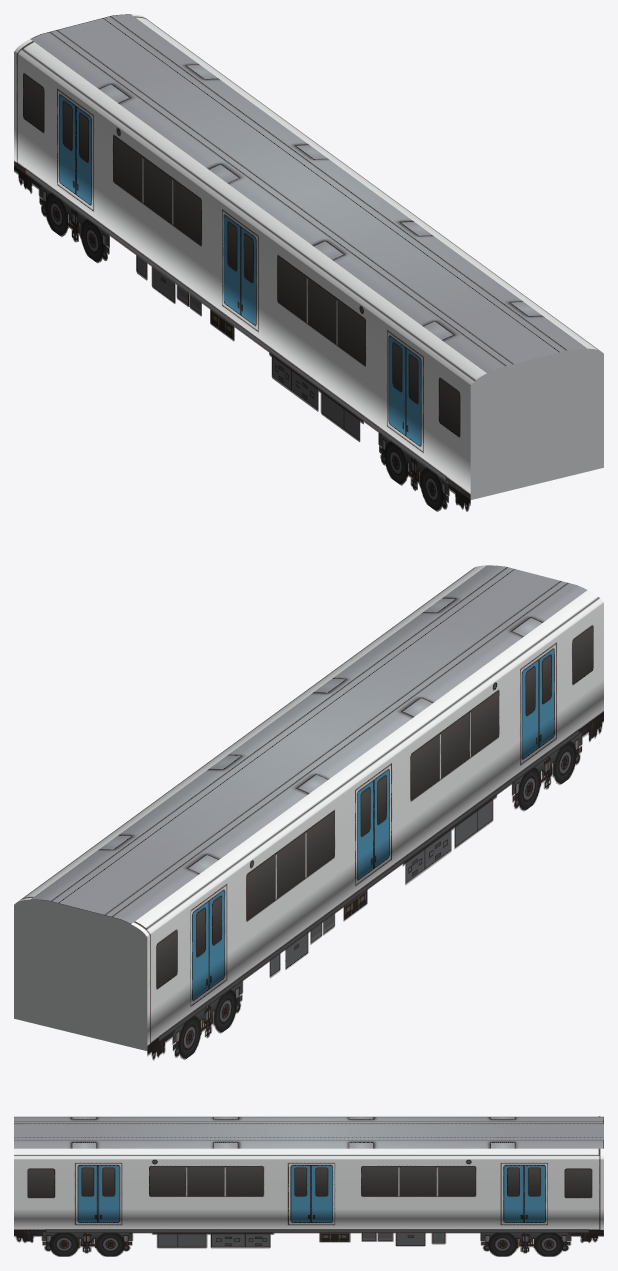
The model's file is car6.glb.
The picture shows the model from 3 angles, top to bottom: view 1: azimuth 30°, elevation 25°; view 2: azimuth 150°, elevation 25°; view 3: azimuth 270°, elevation 25°; orthographic projection. The views are drawn at different scales.
Parts seen in each view (by area): view 1: car6; view 2: car6; view 3: car6.
Boxes of the visible parts, x1=… form: car6: x1=14, y1=14, x2=603, y2=511; car6: x1=14, y1=565, x2=603, y2=1060; car6: x1=14, y1=1116, x2=603, y2=1256.
Bounding box in the file's own units: 3.08 × 3.59 × 18.29.
5 materials, 3 textured.
